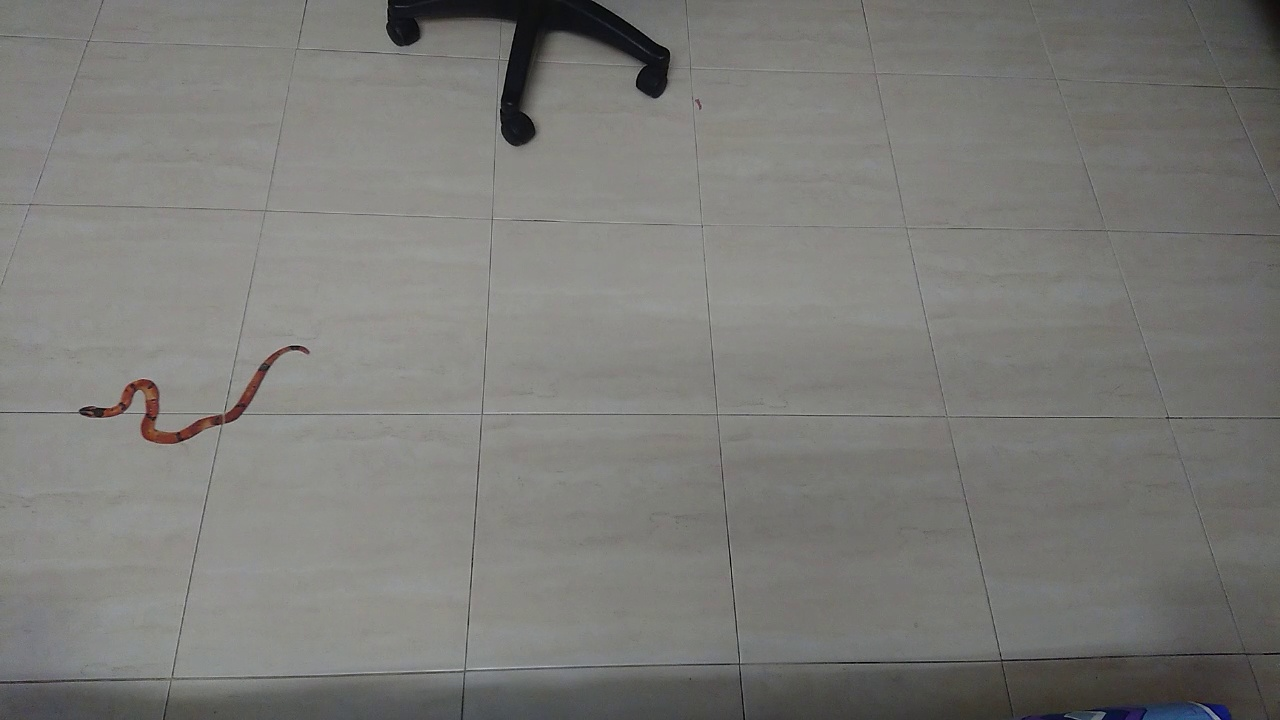snake: (70, 320, 331, 459)
